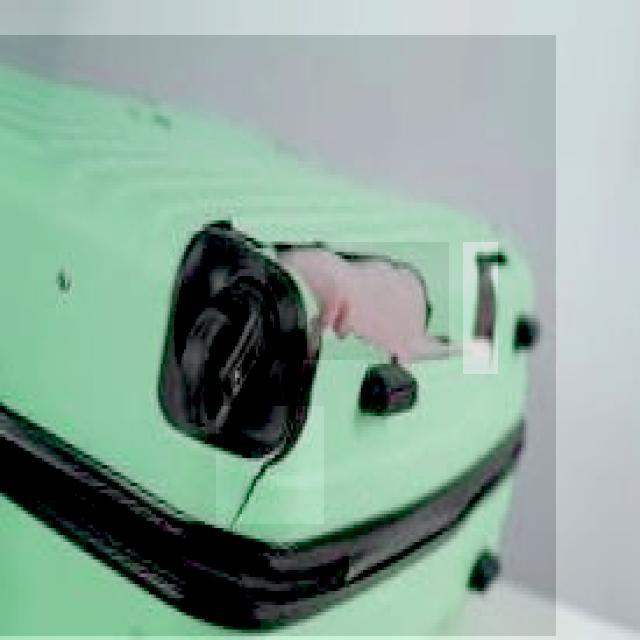Damage-bag: (159, 221, 449, 523), (470, 242, 505, 372)
